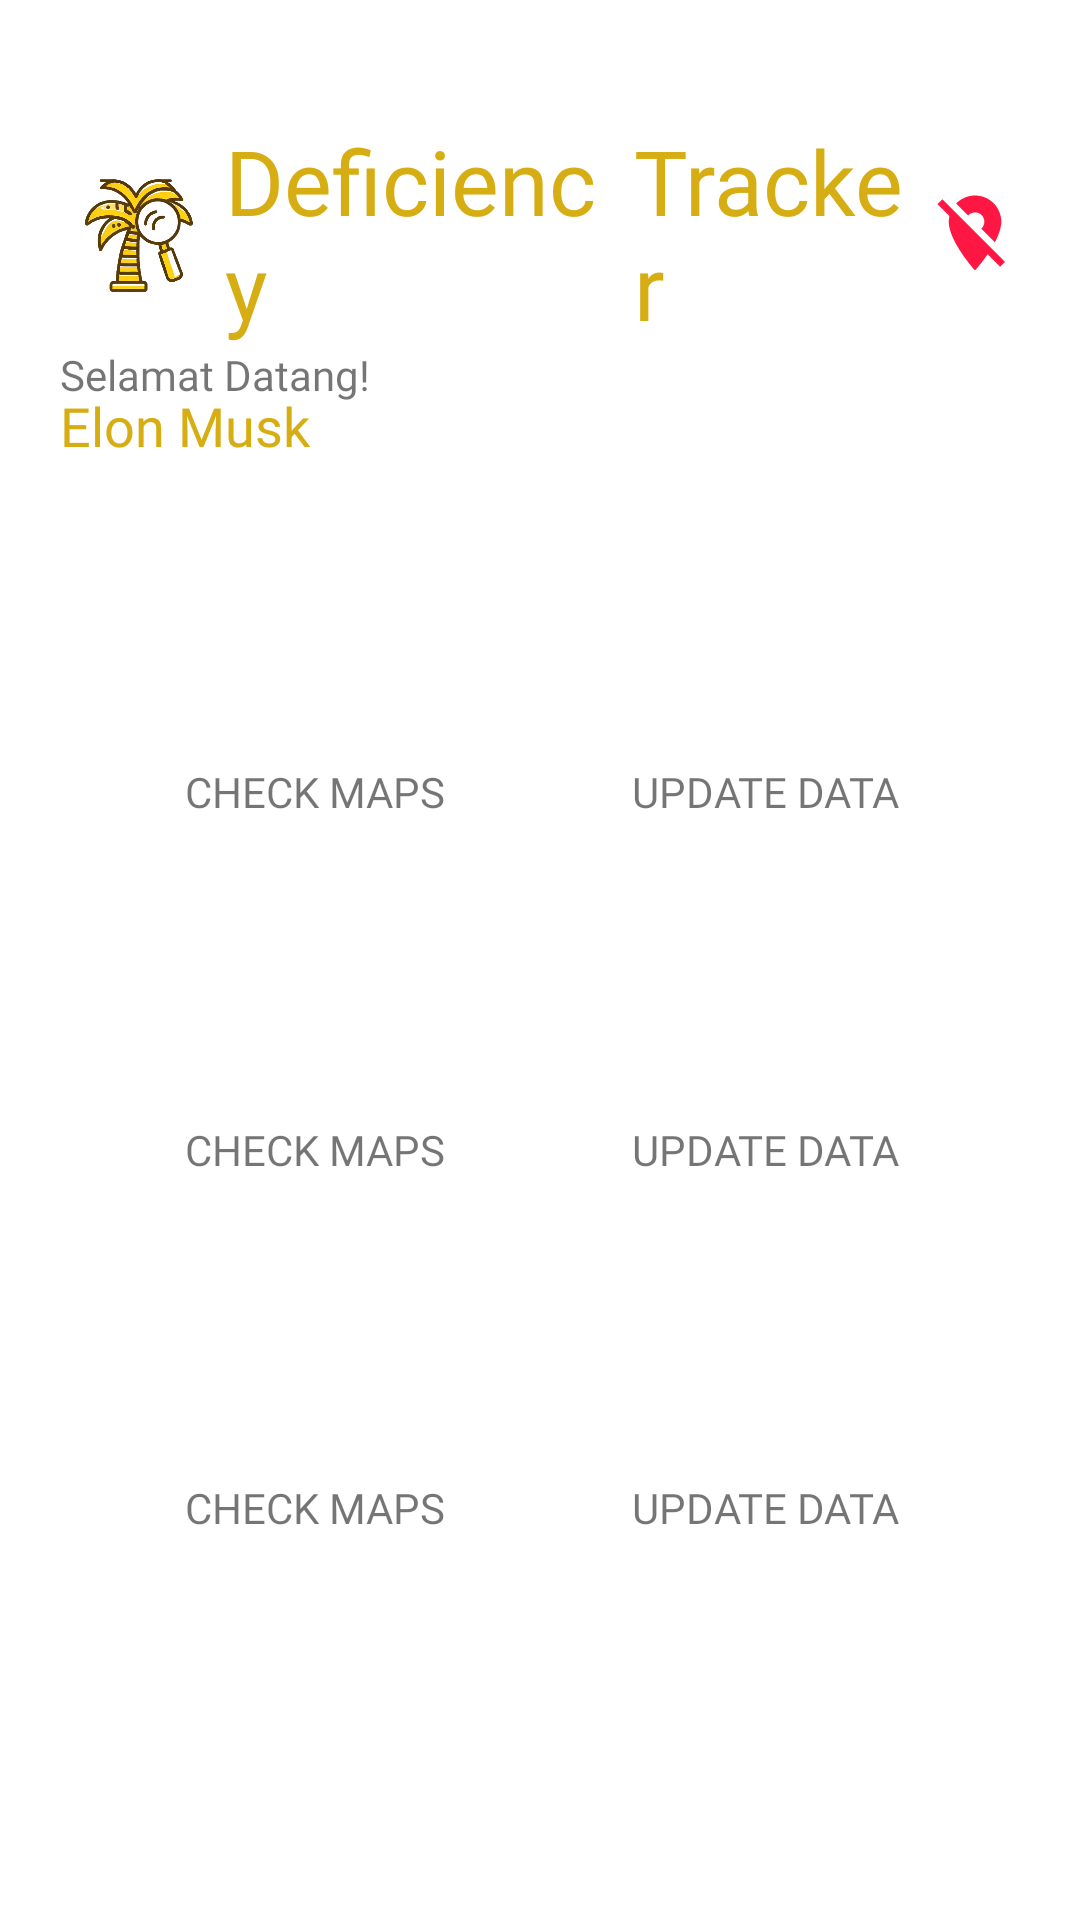

Screen size 1080×1920. Icon name, then its box in pixels as (x1, y1, x2, y2):
location off: (937, 195, 1005, 270)
